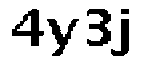3: (84, 6, 114, 49)
4: (10, 7, 45, 47)
j: (112, 4, 135, 60)
y: (45, 14, 80, 58)
